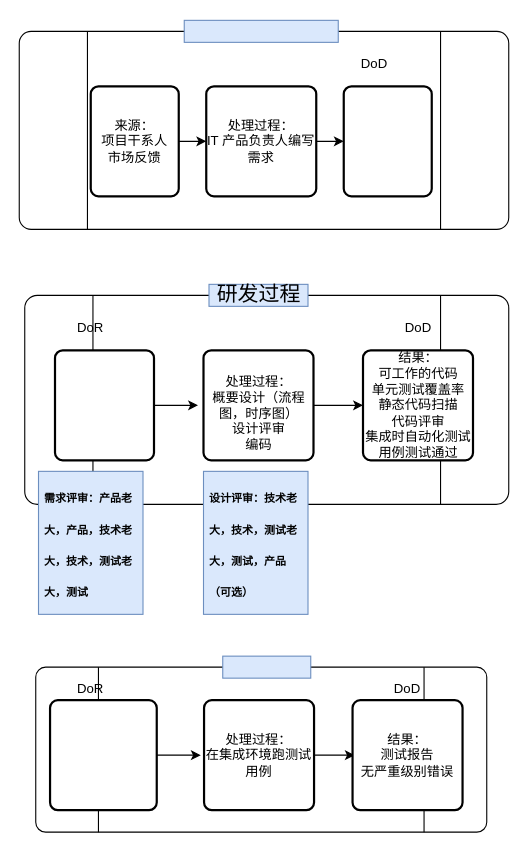
This 528x851 diagram has some shape labels left out. Each missing label, with the box of its shape:
产品需求过程: (183, 19, 338, 42)
来源 ： 集成后的代码 测试计划 测试用例: (48, 698, 157, 811)
来源： 经需求评审，且有优先级排序的需求: (53, 349, 155, 461)
测试流程: (222, 655, 311, 678)
结果： 需求文档 原型图（如有需要） 交互图（如有需要）: (342, 85, 432, 197)
